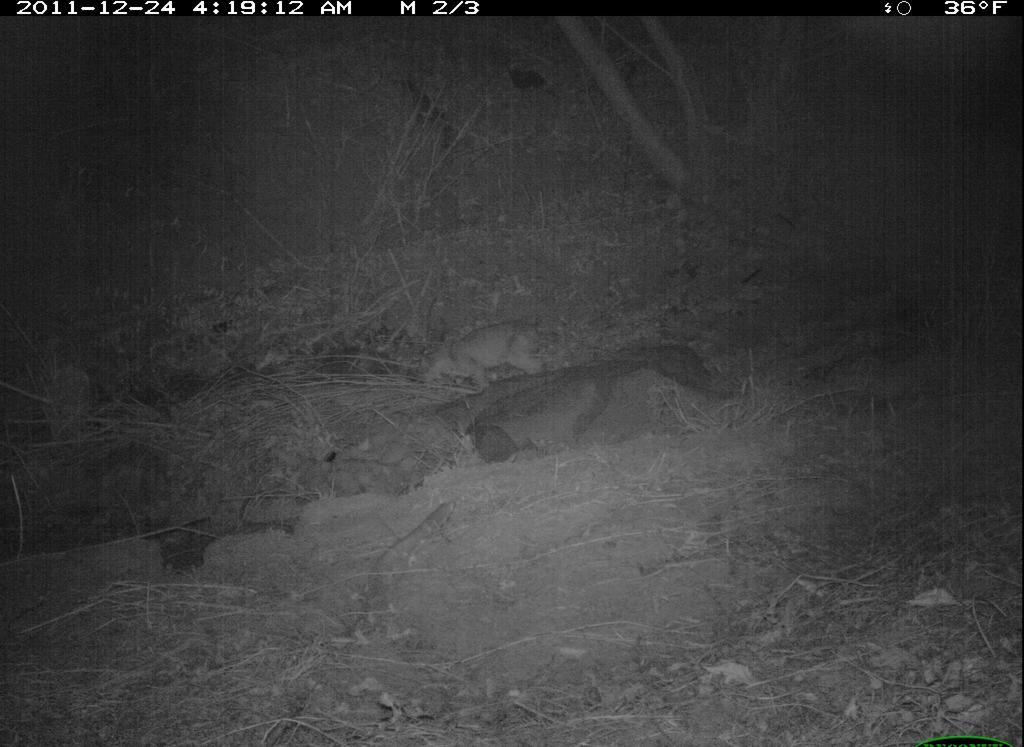bobcat: (399, 311, 557, 408)
